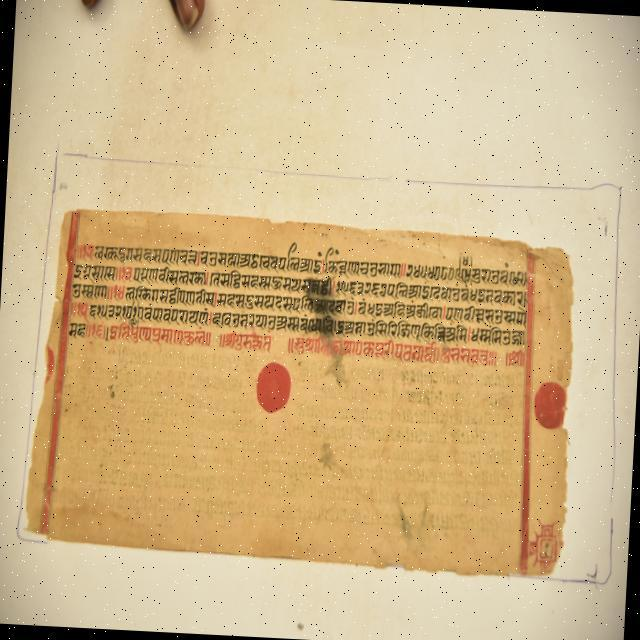text_paragraph: (23, 209, 571, 578)
